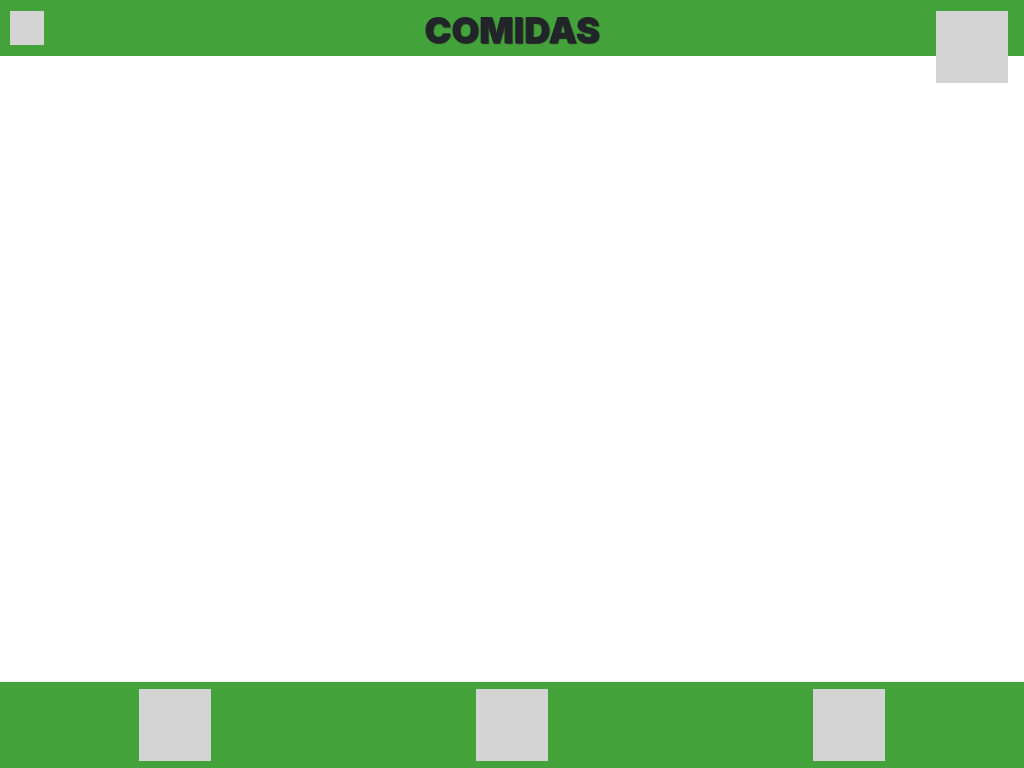
it: Botões do header realizam açoes corretamente › Testa se ao clicar no btn de busca renderiza o formulario de filtro
Expected: the text with test id "page-title" reads "Comidas", [424,8,600,52]
Click the button with test id "search-top-btn": coordinates (972, 28) [930,10,1014,46]
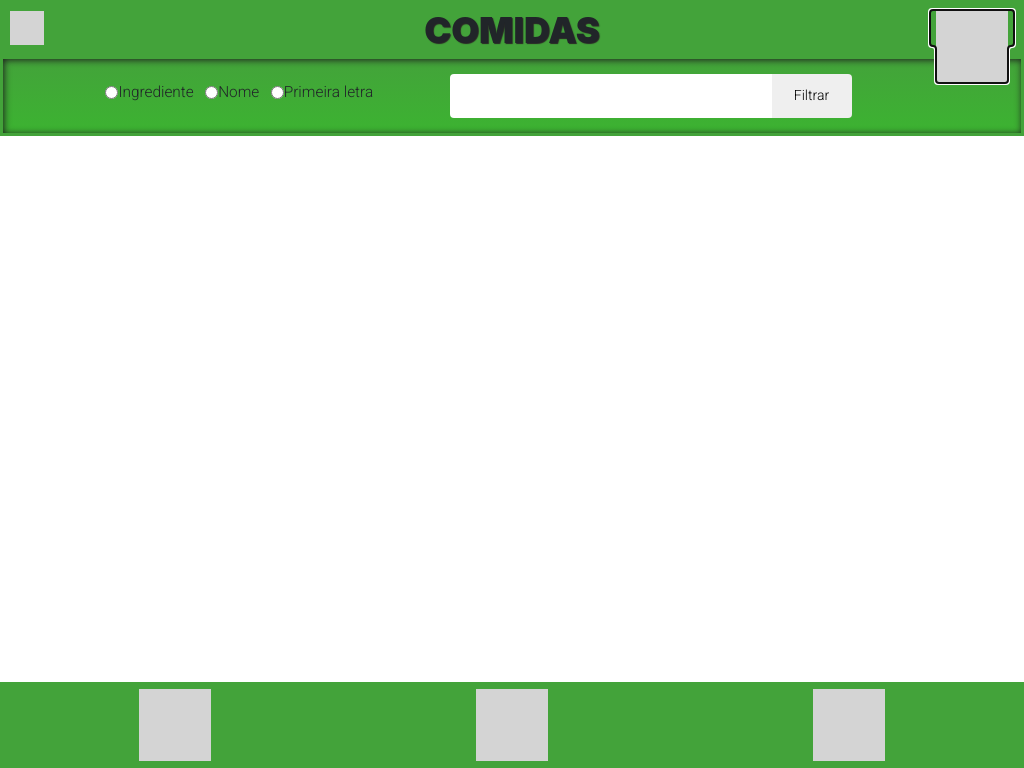
Expected: the field with test id "search-input" is shown, [450,74,772,118]
Expected: the radio button with test id "ingredient-search-radio" is shown, [105,86,118,99]
Expected: the radio button with test id "name-search-radio" is shown, [205,86,218,99]
